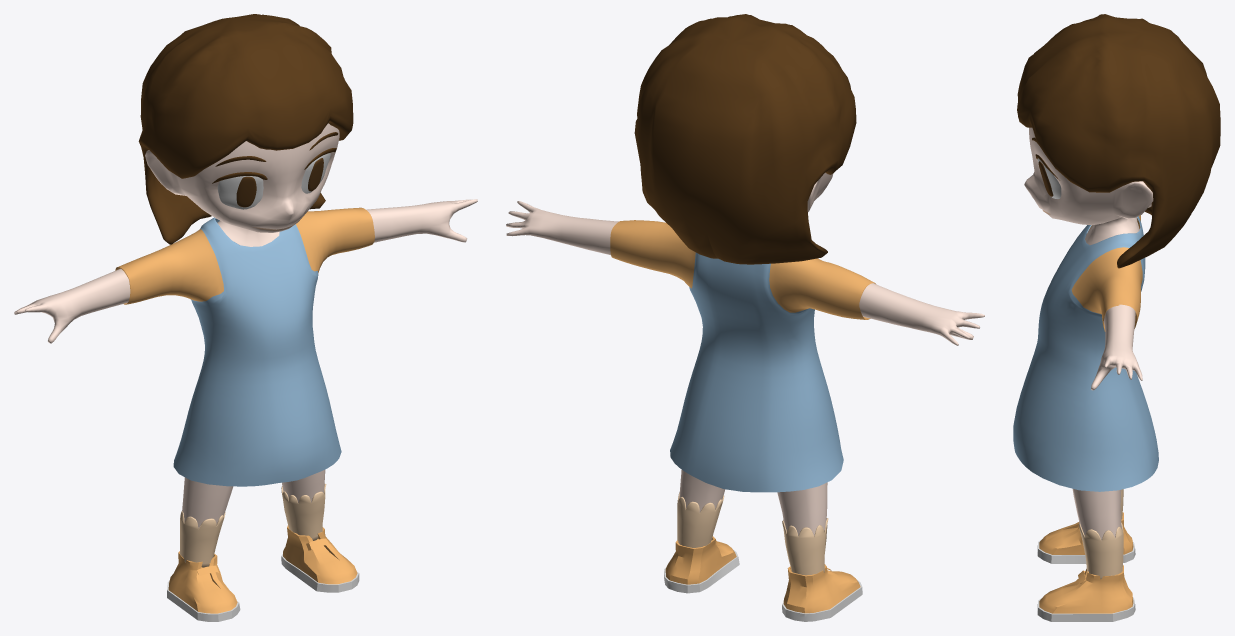
The model's file is rika.fbx.
3 views of the same model, side by side, from view 1: azimuth 30°, elevation 25°; view 2: azimuth 150°, elevation 25°; view 3: azimuth 270°, elevation 25° (orthographic). The views are drawn at different scales.
Parts seen in each view (by area): view 1: Plane.005, Plane.003, Plane, Cube, Plane.004, Plane.006, Mata Kanan; view 2: Plane.003, Plane.005, Plane, Cube, Plane.004; view 3: Plane.003, Plane.005, Plane, Cube, Plane.004.
Part boxes in pixels (bbox=[...]): Plane.005: bbox=[115, 207, 374, 486]; Plane.003: bbox=[138, 14, 353, 244]; Plane: bbox=[14, 123, 477, 528]; Cube: bbox=[167, 525, 359, 621]; Plane.004: bbox=[180, 484, 326, 567]; Plane.006: bbox=[236, 158, 323, 207]; Mata Kanan: bbox=[217, 176, 263, 209]; Plane.003: bbox=[634, 14, 856, 264]; Plane.005: bbox=[610, 220, 875, 492]; Plane: bbox=[506, 172, 984, 536]; Cube: bbox=[664, 536, 862, 621]; Plane.004: bbox=[677, 492, 828, 575]; Plane.003: bbox=[1017, 14, 1220, 268]; Plane.005: bbox=[1013, 215, 1158, 491]; Plane: bbox=[1024, 127, 1153, 540]; Cube: bbox=[1037, 512, 1135, 621]; Plane.004: bbox=[1078, 489, 1123, 579].
Size of the model in its own units: 1090 by 1263 by 428.
